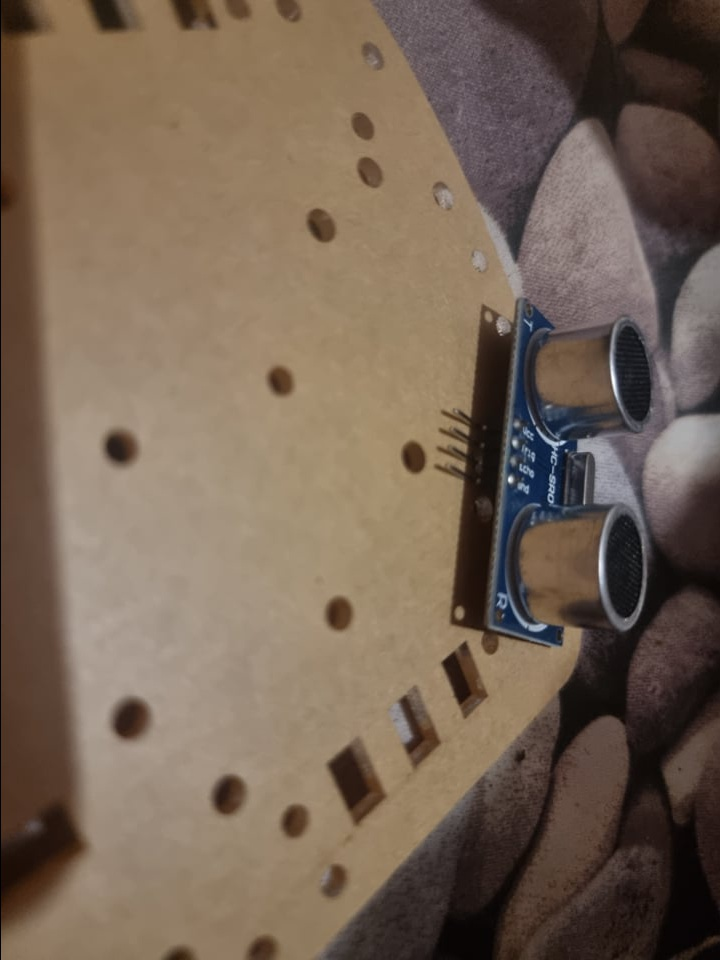SENSOR: (482, 296, 657, 651)
